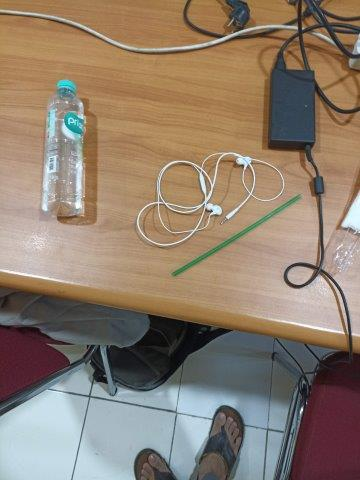botolplastik: (40, 79, 85, 216)
